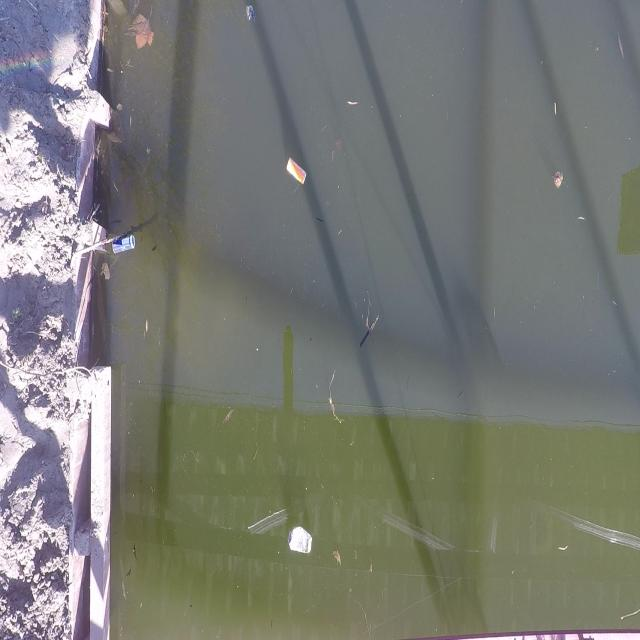Non plastique: (288, 527, 312, 553), (286, 158, 307, 184), (112, 236, 136, 252)
